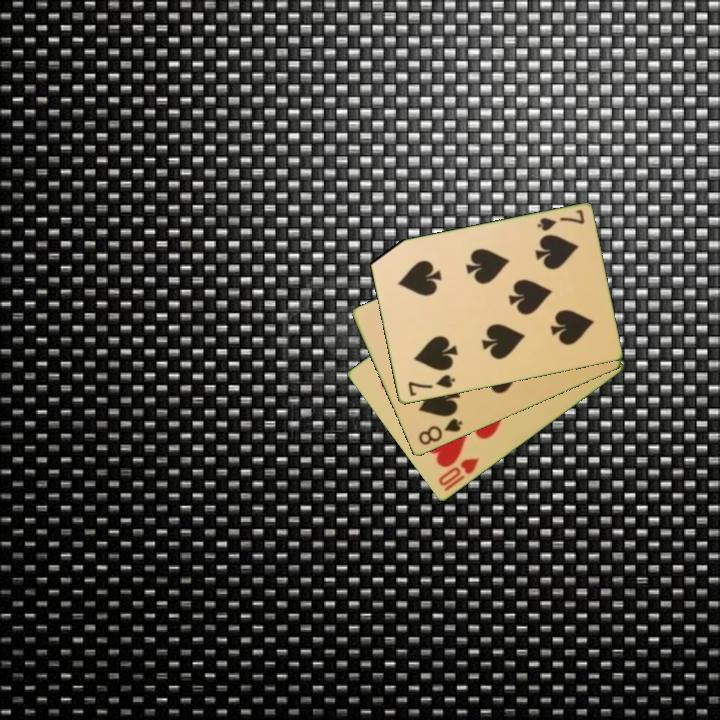10h: (435, 454, 483, 495)
7s: (404, 371, 458, 399), (533, 206, 587, 234)
8s: (415, 415, 466, 448)
